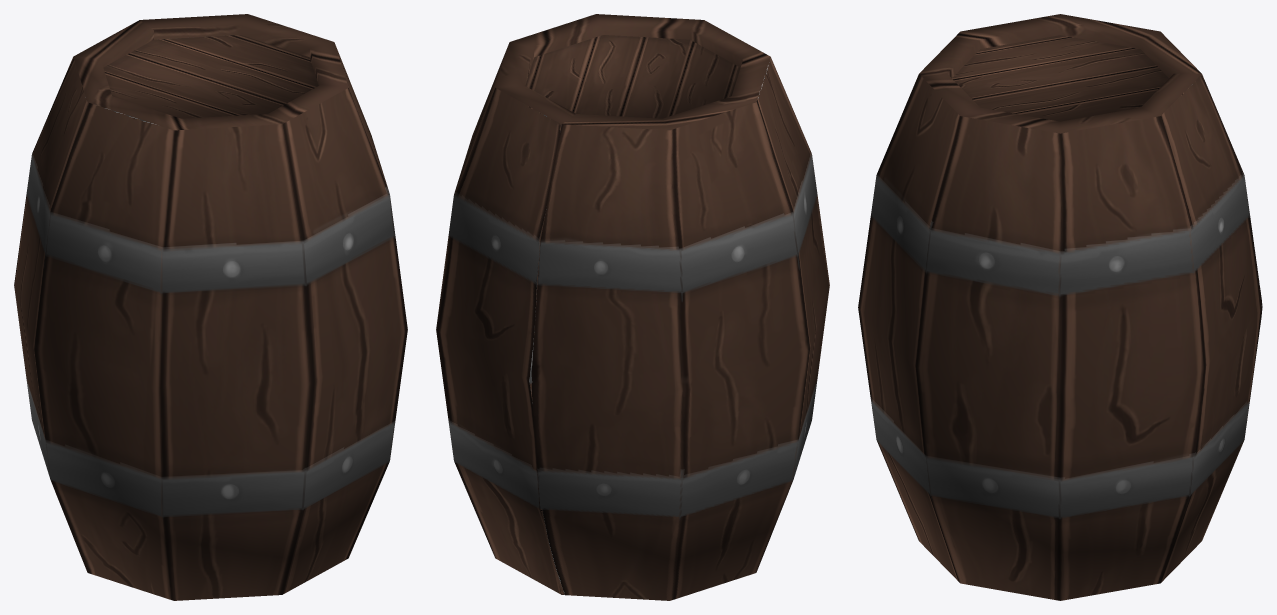
File: Barrel.fbx
3 views of the same model, side by side, from view 1: azimuth 30°, elevation 25°; view 2: azimuth 150°, elevation 25°; view 3: azimuth 270°, elevation 25° (orthographic).
Visible parts, largest first — view 1: Circle; view 2: Circle; view 3: Circle.
Part boxes in pixels (x1,y1,x2,y2): Circle: (14, 14, 407, 600); Circle: (436, 14, 829, 600); Circle: (858, 14, 1262, 600).
Bounding box in the file's own units: 0.4004 × 0.51 × 0.4004.
